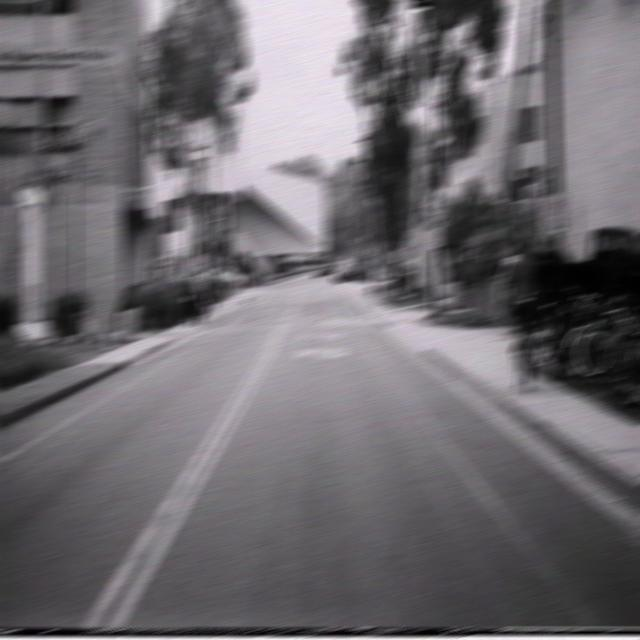pedestrianCrossing: (421, 182, 449, 226)
